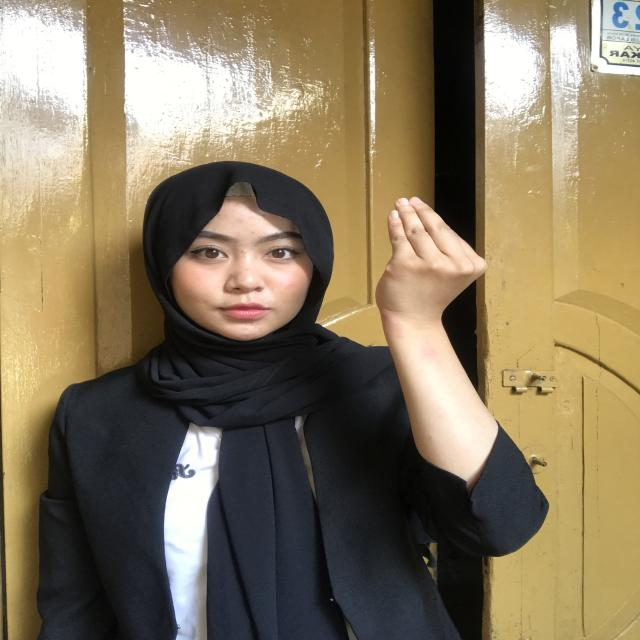kapan: (353, 184, 513, 400)
